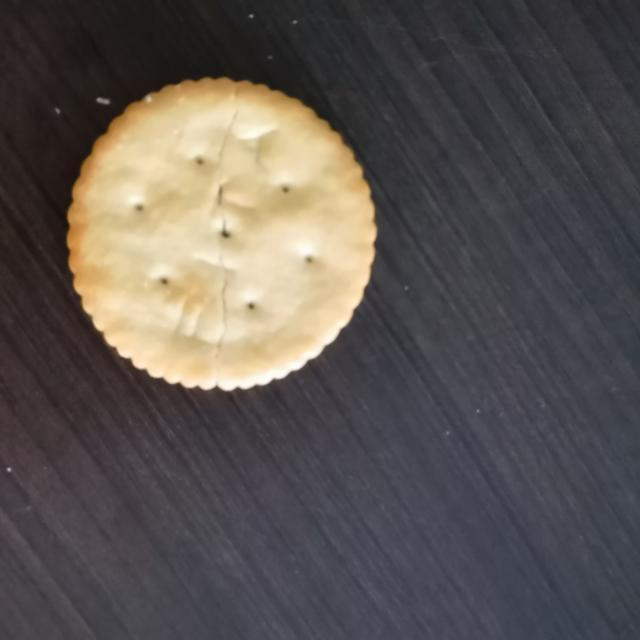Fracture: (193, 74, 254, 390)
